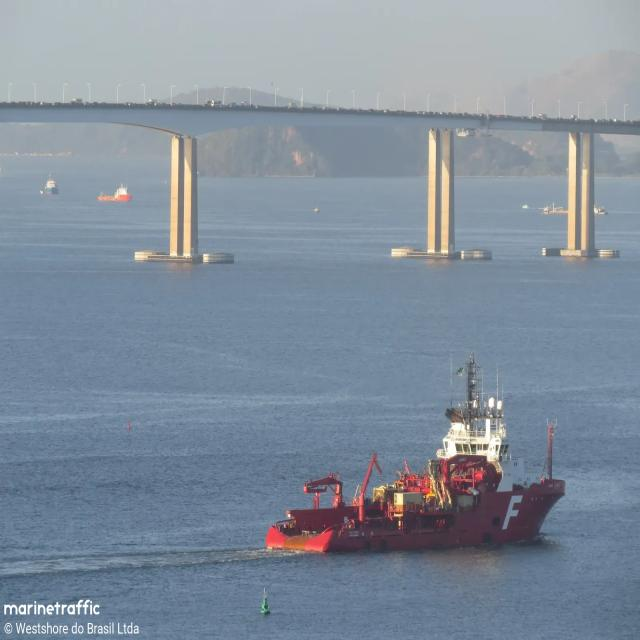Offshore: (266, 356, 565, 553)
